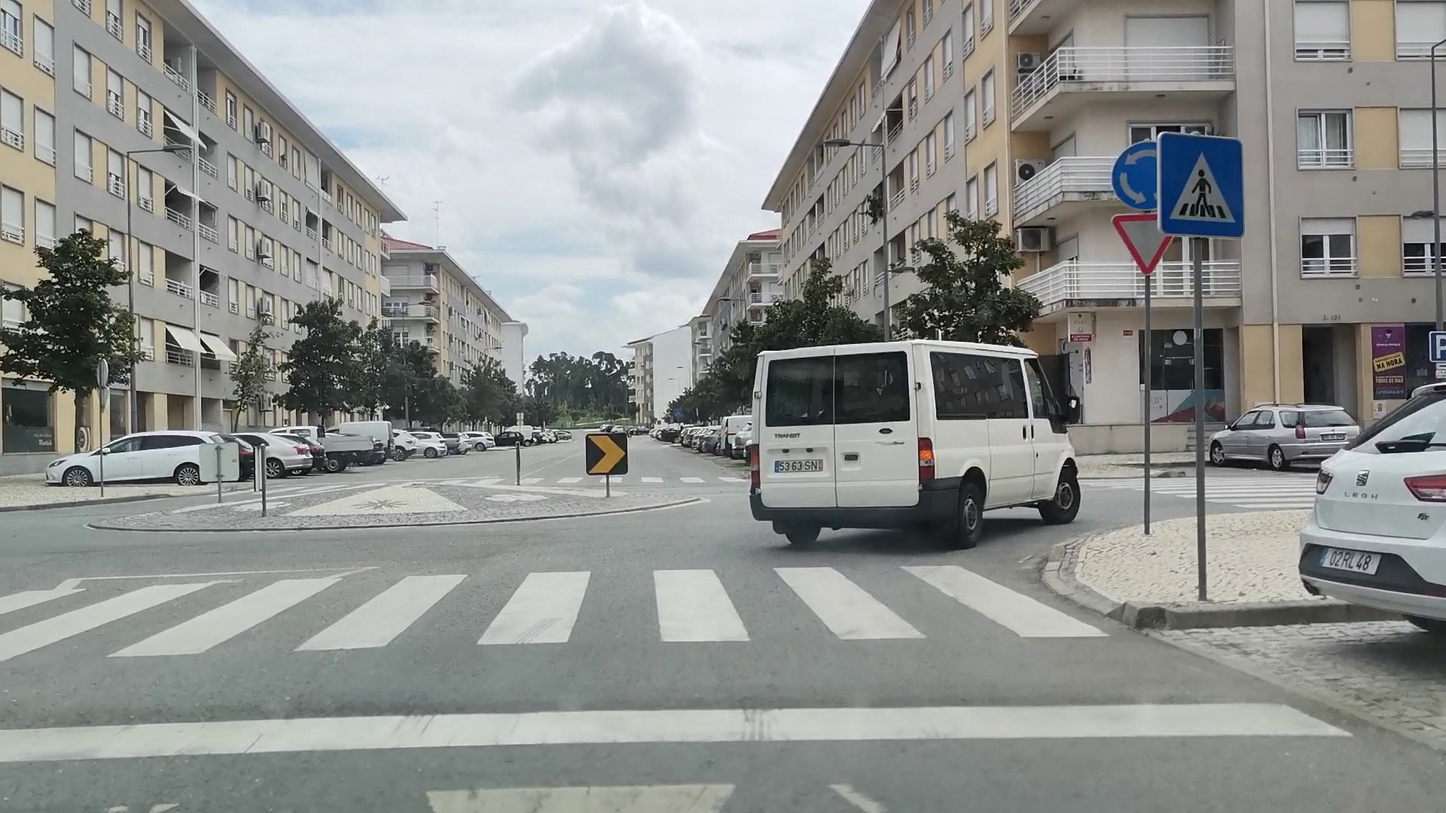Stairs: (0, 562, 1101, 661), (1115, 467, 1319, 508), (432, 472, 746, 486)
